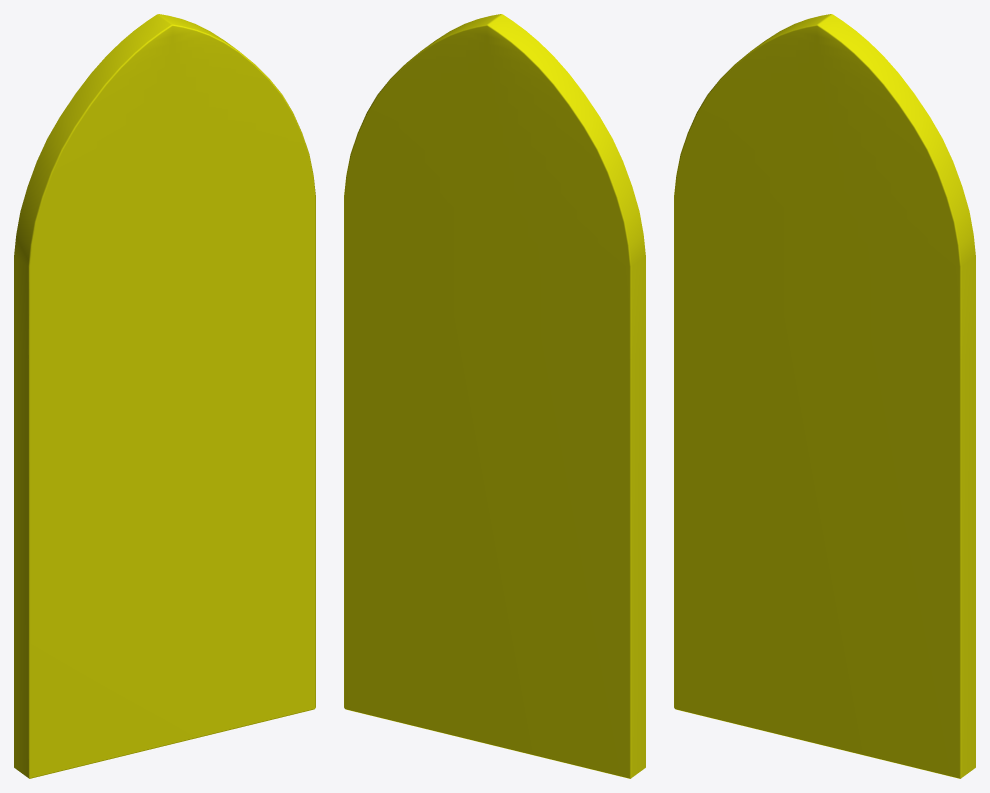
File: Door1Peak2.fbx
3 renders of one model, left to right at view 1: azimuth 30°, elevation 25°; view 2: azimuth 150°, elevation 25°; view 3: azimuth 330°, elevation 25°, orthographic.
Parts seen in each view (by area): view 1: Door1Peak2; view 2: Door1Peak2; view 3: Door1Peak2.
Boxes of the visible parts, <box> form: Door1Peak2: <box>14,14,315,778</box>; Door1Peak2: <box>344,14,645,778</box>; Door1Peak2: <box>674,14,975,778</box>.
Size of the model in its own units: 111 by 264 by 10.42.
